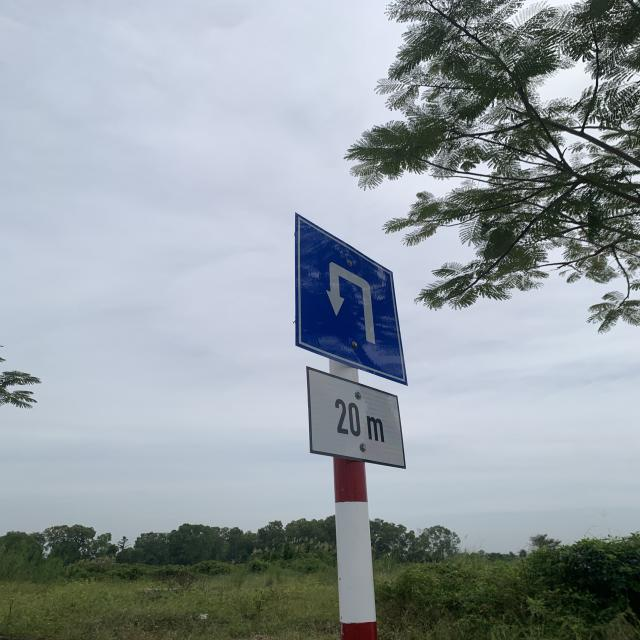Den_Giao_Thong: (294, 213, 404, 384)
